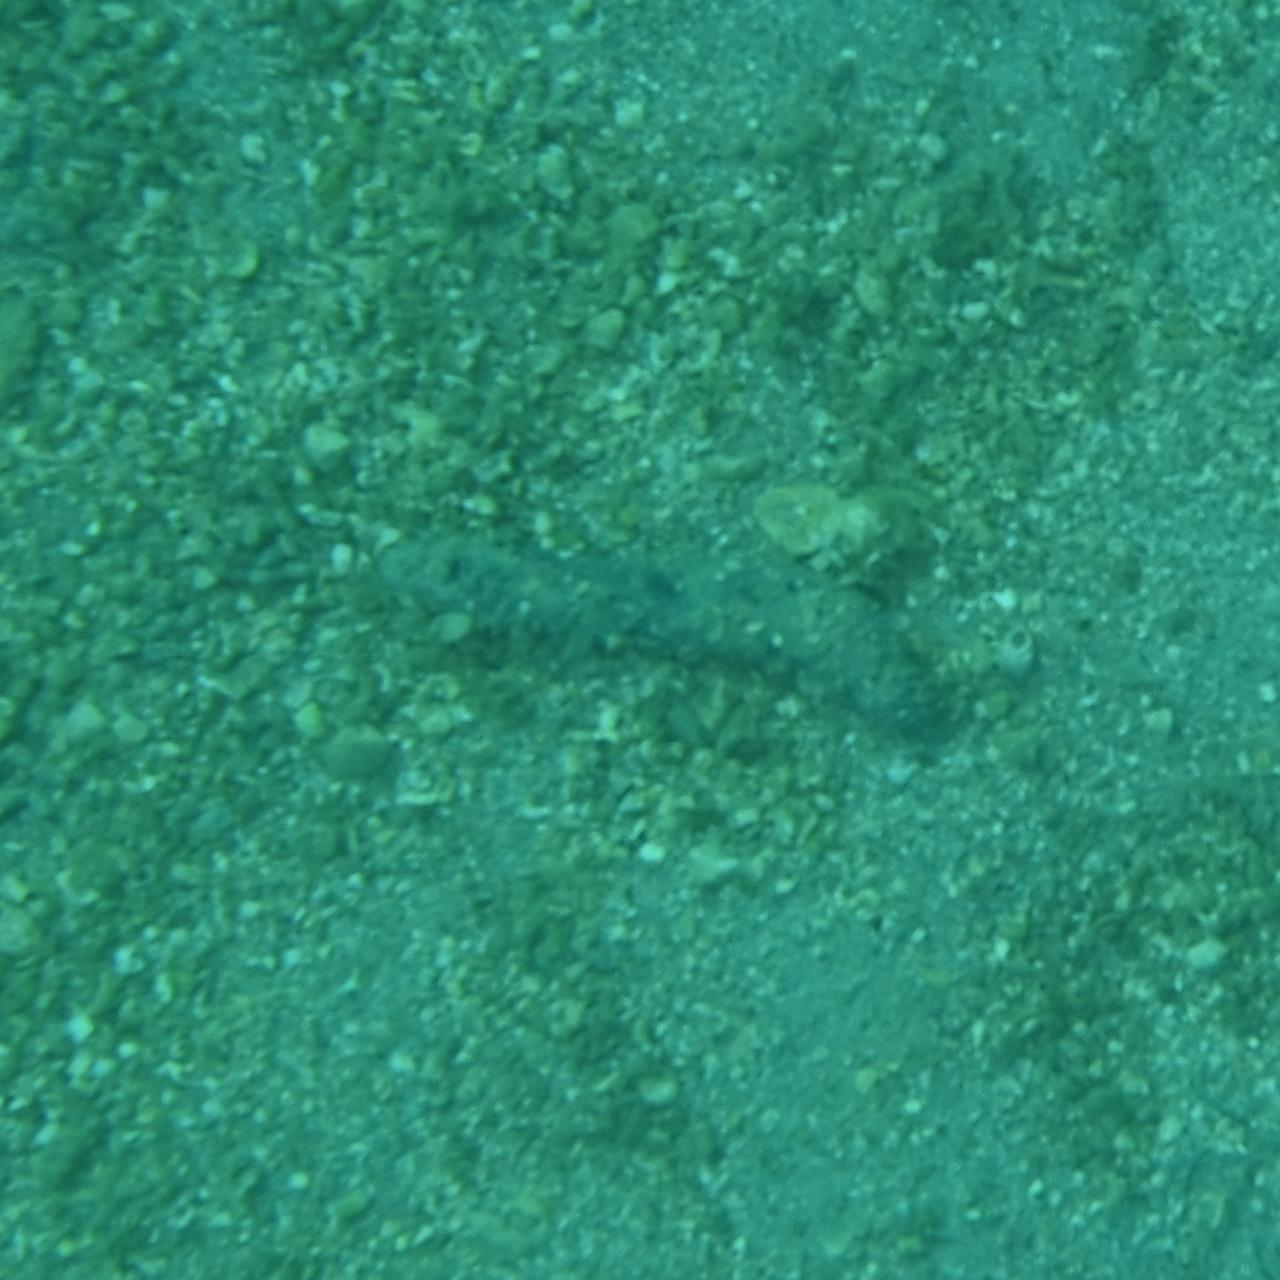Holothuria tubulosa: (312, 521, 968, 759)
